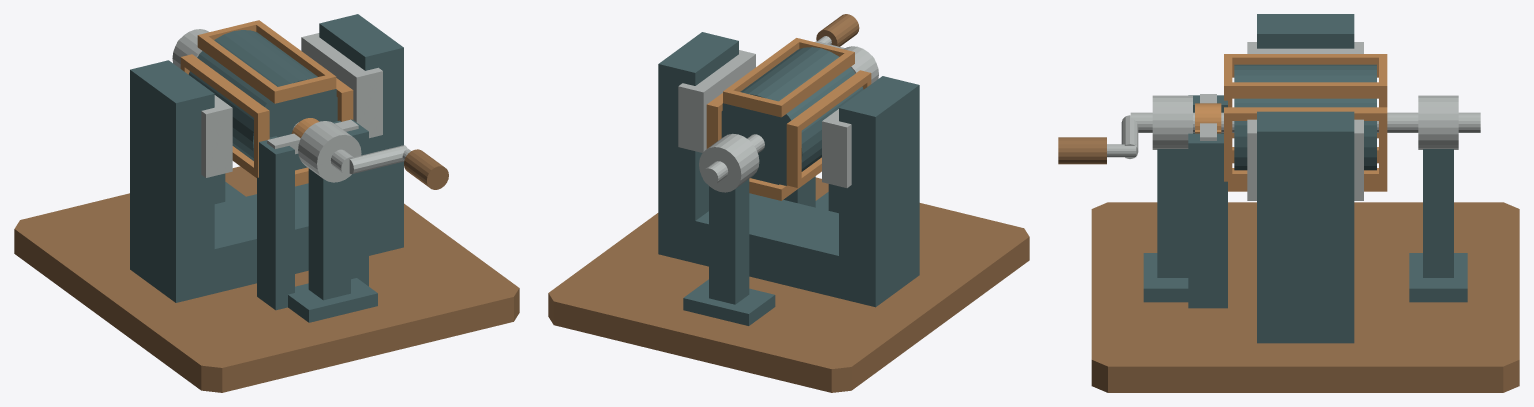
3 renders of one model, left to right at view 1: azimuth 30°, elevation 25°; view 2: azimuth 150°, elevation 25°; view 3: azimuth 270°, elevation 25°, orthographic. The views are drawn at different scales.
Parts seen in each view (by area): view 1: WholeChamferedWoodBase, WholeContinuousUYoke, WholeRotorCore, WholeBrushSupport0, WholeBearingPedestal0, WholeRotorWindingLoop0, WholeInwardPoleShoe1, WholeRotorWindingLoop1, WholeBearingCollar0, WholeBrushSupport1, WholeInwardPoleShoe0, WholeBearingFoot0 (+4 smaller); view 2: WholeChamferedWoodBase, WholeContinuousUYoke, WholeRotorCore, WholeBearingPedestal1, WholeRotorWindingLoop0, WholeInwardPoleShoe1, WholeRotorWindingLoop1, WholeBearingCollar1, WholeBearingFoot1, WholeInwardPoleShoe0, WholeWoodCrankGrip, WholeRotorWindingLoop3 (+4 smaller); view 3: WholeChamferedWoodBase, WholeContinuousUYoke, WholeBrushSupport1, WholeRotorCore, WholeRotorWindingLoop0, WholeBearingPedestal0, WholeBearingPedestal1, WholeRotorWindingLoop3, WholeBearingCollar1, WholeBearingFoot1, WholeBearingCollar0, WholeRotorShaft (+8 smaller).
Part boxes in pixels (bbox=[...]): WholeChamferedWoodBase: bbox=[14, 166, 519, 392]; WholeContinuousUYoke: bbox=[130, 14, 403, 302]; WholeRotorCore: bbox=[188, 30, 337, 170]; WholeBrushSupport0: bbox=[257, 136, 294, 310]; WholeBearingPedestal0: bbox=[308, 168, 350, 300]; WholeRotorWindingLoop0: bbox=[197, 20, 336, 103]; WholeInwardPoleShoe1: bbox=[301, 33, 382, 138]; WholeRotorWindingLoop1: bbox=[180, 54, 269, 177]; WholeBearingCollar0: bbox=[298, 121, 361, 182]; WholeBrushSupport1: bbox=[332, 119, 368, 286]; WholeInwardPoleShoe0: bbox=[201, 95, 232, 177]; WholeBearingFoot0: bbox=[288, 278, 377, 322]; WholeChamferedWoodBase: bbox=[548, 177, 1029, 392]; WholeContinuousUYoke: bbox=[658, 32, 919, 307]; WholeRotorCore: bbox=[721, 47, 863, 185]; WholeBearingPedestal1: bbox=[709, 179, 749, 304]; WholeRotorWindingLoop0: bbox=[723, 38, 854, 117]; WholeInwardPoleShoe1: bbox=[678, 50, 755, 152]; WholeRotorWindingLoop1: bbox=[786, 70, 871, 187]; WholeBearingCollar1: bbox=[699, 133, 759, 192]; WholeBearingFoot1: bbox=[683, 279, 775, 325]; WholeInwardPoleShoe0: bbox=[822, 109, 851, 187]; WholeWoodCrankGrip: bbox=[816, 14, 859, 46]; WholeRotorWindingLoop3: bbox=[706, 93, 722, 148]; WholeChamferedWoodBase: bbox=[1091, 202, 1519, 392]; WholeContinuousUYoke: bbox=[1257, 14, 1354, 343]; WholeBrushSupport1: bbox=[1188, 133, 1227, 308]; WholeRotorCore: bbox=[1234, 64, 1376, 170]; WholeRotorWindingLoop0: bbox=[1224, 54, 1387, 98]; WholeBearingPedestal0: bbox=[1157, 149, 1188, 277]; WholeBearingPedestal1: bbox=[1423, 149, 1453, 277]; WholeRotorWindingLoop3: bbox=[1224, 107, 1387, 181]; WholeBearingCollar1: bbox=[1418, 95, 1458, 149]; WholeBearingFoot1: bbox=[1409, 253, 1467, 302]; WholeBearingCollar0: bbox=[1152, 95, 1192, 149]; WholeRotorShaft: bbox=[1130, 112, 1480, 132].
Bounding box in the file's own units: 0.6 × 0.41 × 0.7115.
